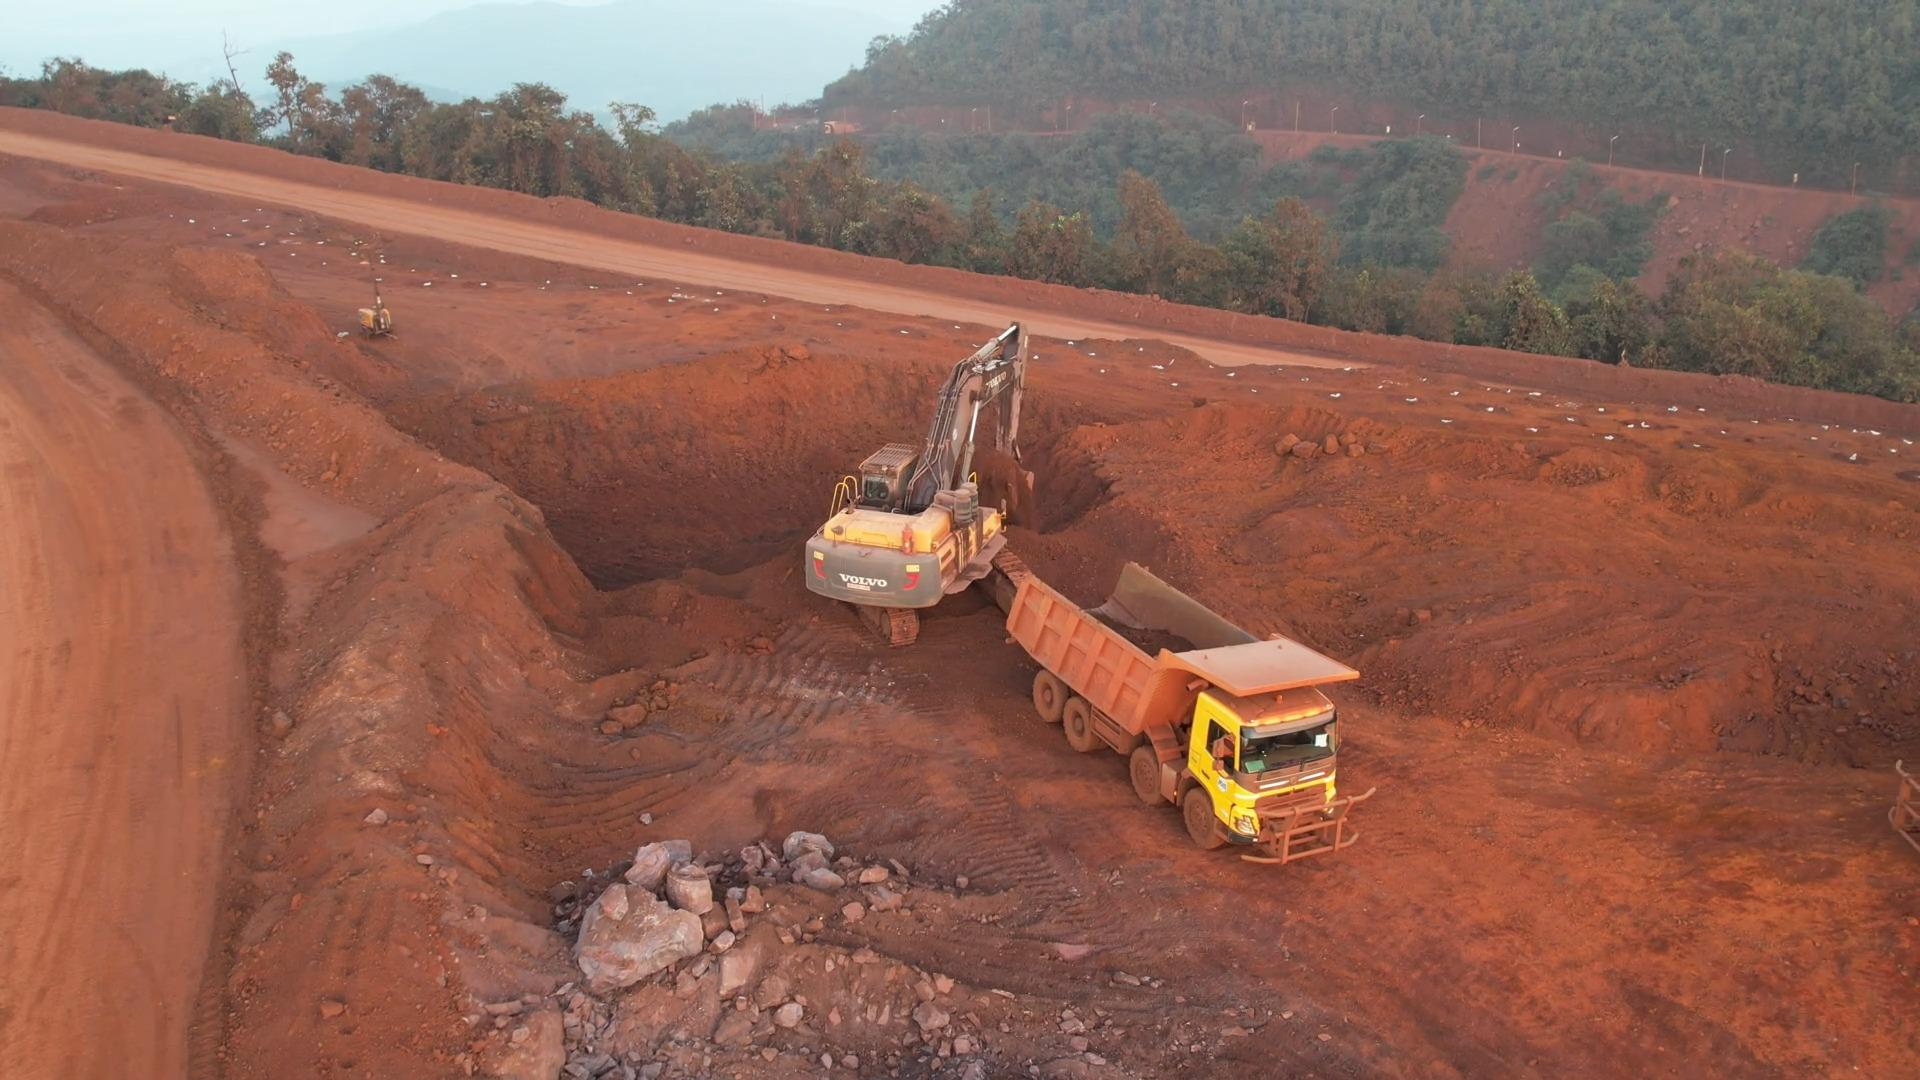excavator: (810, 322, 1047, 585)
